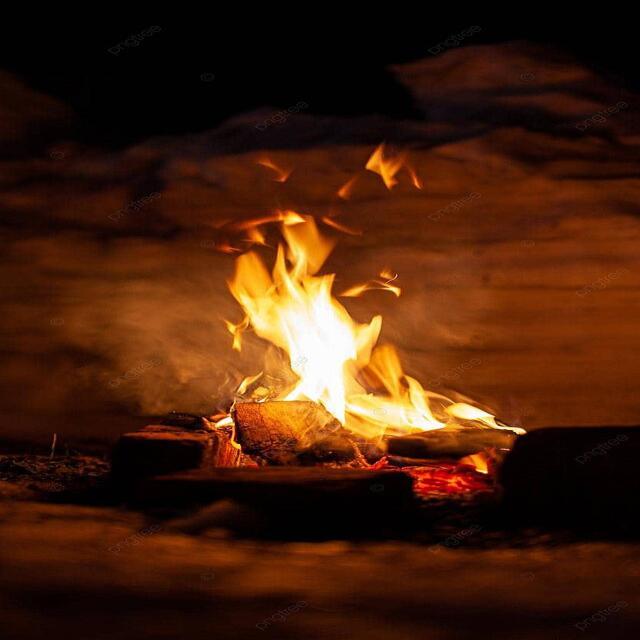fire: (205, 209, 527, 435), (363, 142, 425, 190), (338, 270, 402, 298)
